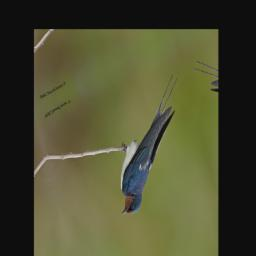Swallow: (97, 71, 203, 220)
